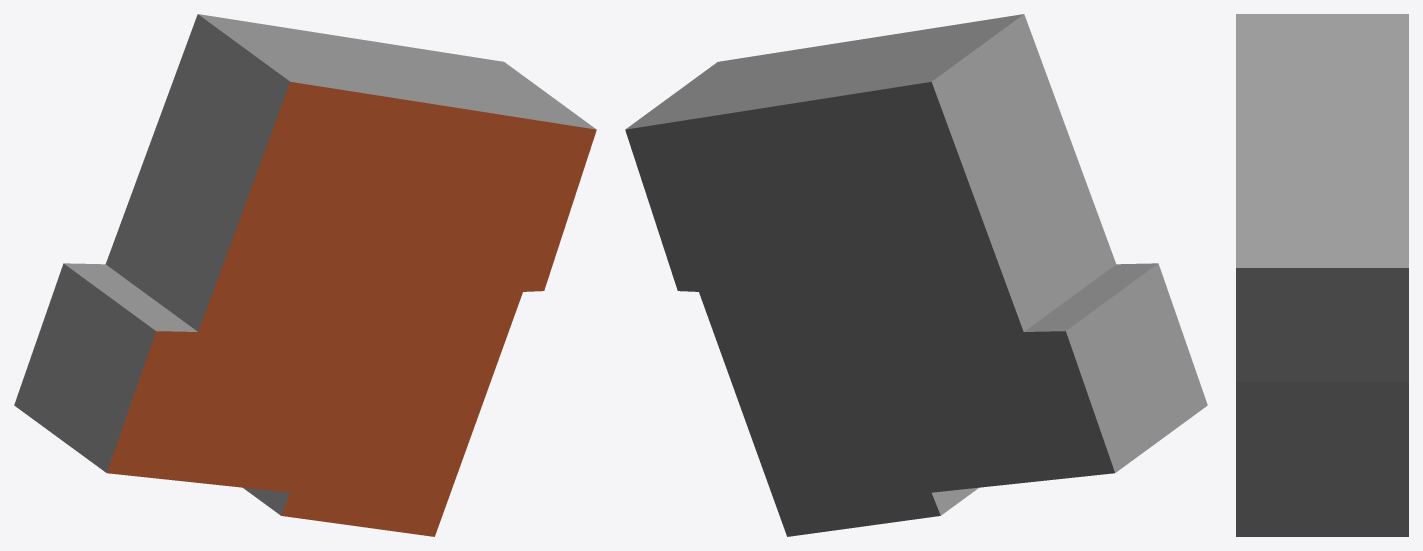
Rendered from construction_5822_assumed_A_Casa_h6m.obj.
3 views of the same model, side by side, from view 1: azimuth 30°, elevation 25°; view 2: azimuth 150°, elevation 25°; view 3: azimuth 270°, elevation 25° (orthographic). The views are drawn at different scales.
Visible parts, largest first — view 1: construction_5822_assumed_A_Casa; view 2: construction_5822_assumed_A_Casa; view 3: construction_5822_assumed_A_Casa.
Part boxes in pixels (box(x1,y1,x2,y2)): construction_5822_assumed_A_Casa: box(14, 14, 596, 536); construction_5822_assumed_A_Casa: box(625, 14, 1207, 536); construction_5822_assumed_A_Casa: box(1236, 14, 1408, 536).
Bounding box in the file's own units: 18.33 × 17.52 × 6.
